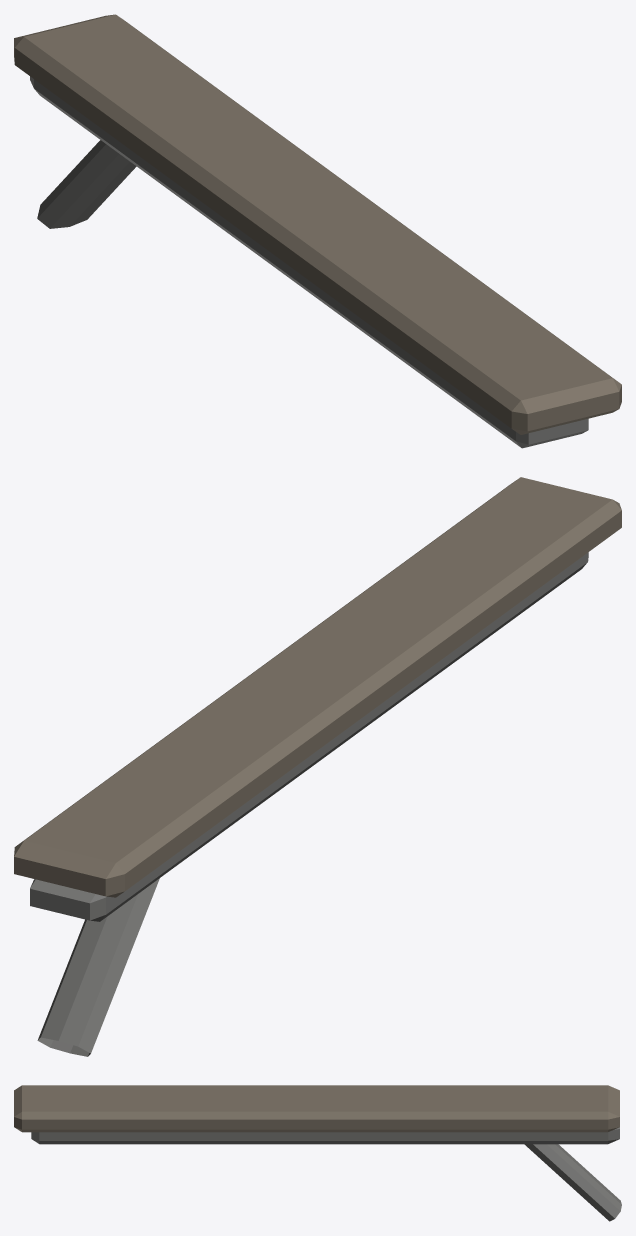
File: Beam_Platform.fbx
3 renders of one model, top to bottom at view 1: azimuth 30°, elevation 25°; view 2: azimuth 150°, elevation 25°; view 3: azimuth 270°, elevation 25°, orthographic. The views are drawn at different scales.
Parts seen in each view (by area): view 1: pCube135, pCube134, pCube857; view 2: pCube135, pCube857, pCube134; view 3: pCube135, pCube134, pCube857.
Part boxes in pixels (x1=…): pCube135: x1=14, y1=14, x2=621, y2=434; pCube134: x1=30, y1=76, x2=588, y2=448; pCube857: x1=37, y1=140, x2=136, y2=228; pCube135: x1=14, y1=477, x2=621, y2=897; pCube857: x1=37, y1=878, x2=159, y2=1056; pCube134: x1=30, y1=552, x2=588, y2=921; pCube135: x1=14, y1=1085, x2=619, y2=1132; pCube134: x1=31, y1=1127, x2=619, y2=1144; pCube857: x1=524, y1=1144, x2=621, y2=1221.
Size of the model in its own units: 0.5324 by 0.928 by 4.3.
